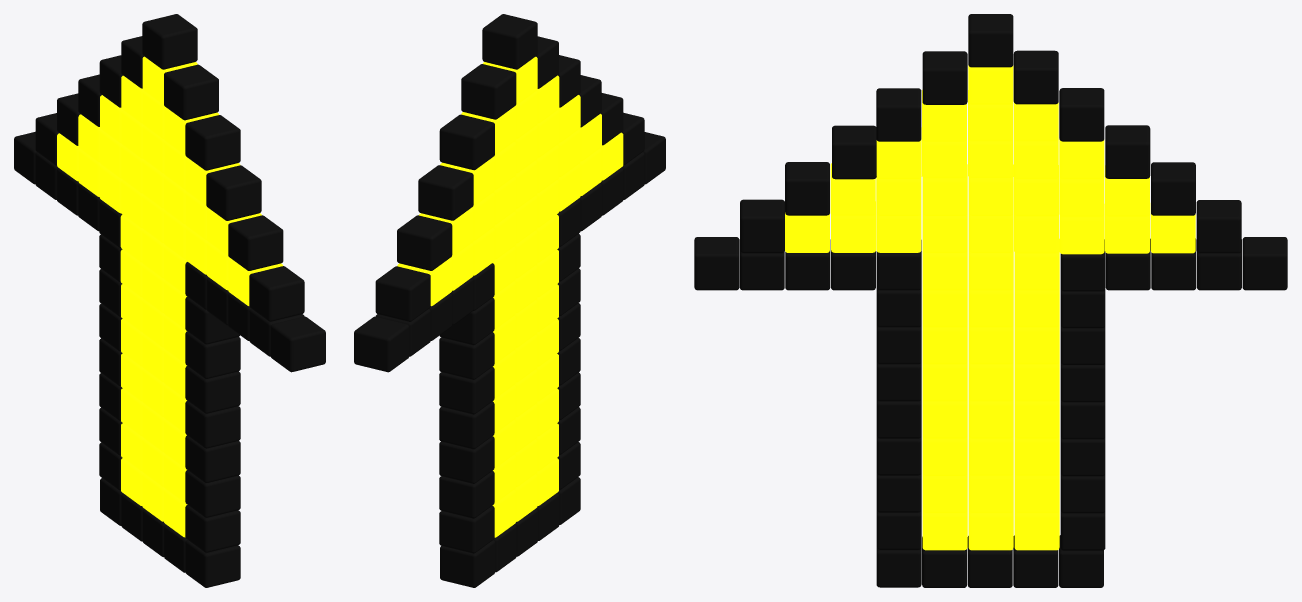
Rendered from flecha.fbx.
3 views of the same model, side by side, from view 1: azimuth 30°, elevation 25°; view 2: azimuth 150°, elevation 25°; view 3: azimuth 270°, elevation 25° (orthographic). The views are drawn at different scales.
Parts seen in each view (by area): view 1: flecha; view 2: flecha; view 3: flecha.
Boxes of the visible parts, <box> form: flecha: <box>14,14,325,587</box>; flecha: <box>354,14,665,587</box>; flecha: <box>694,14,1287,587</box>.
Size of the model in its own units: 19.02 by 260 by 251.
